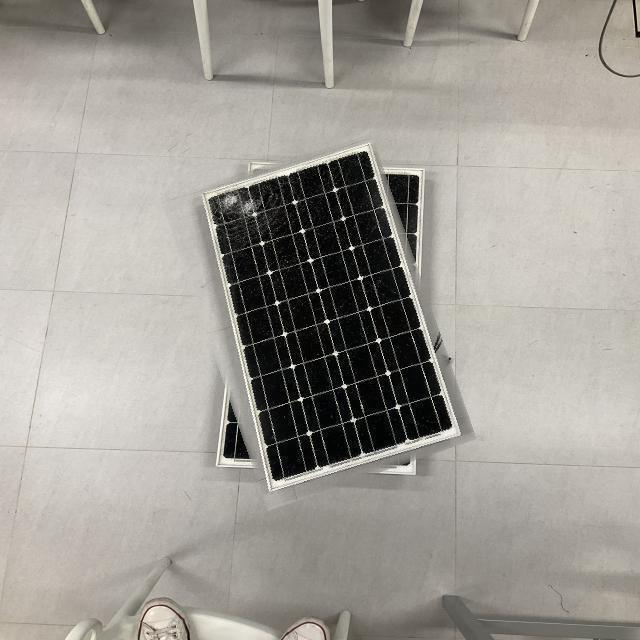Structural Damage: (209, 188, 273, 244)
